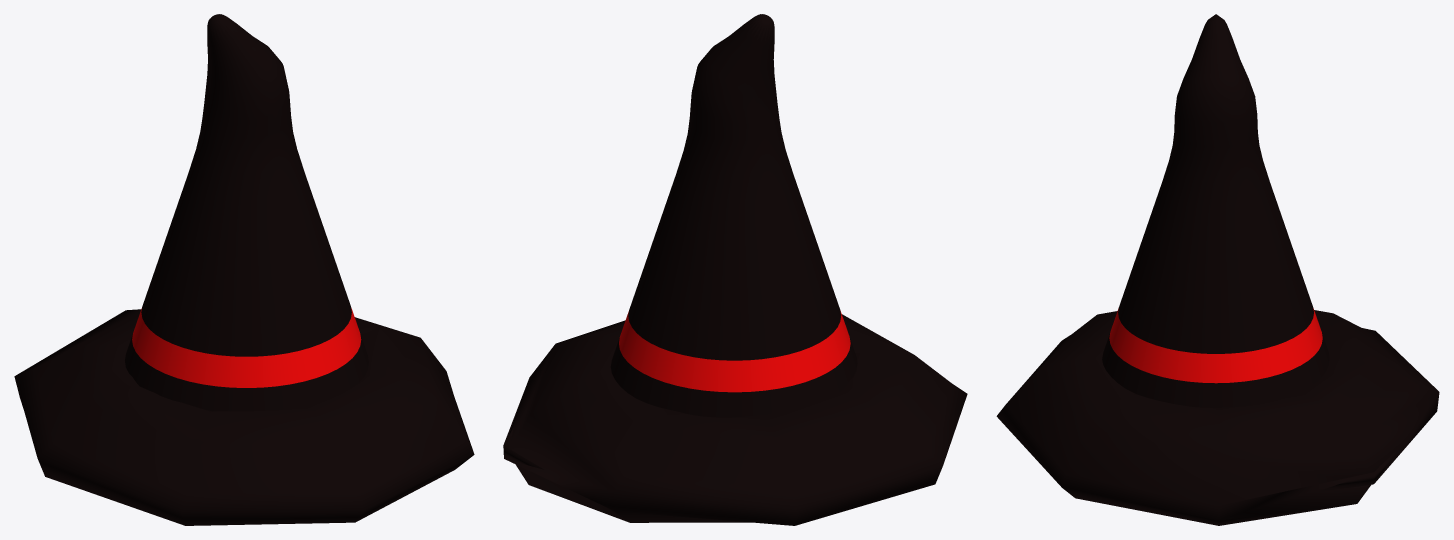
The model's file is cap1.FBX.
The picture shows the model from 3 angles, left to right: view 1: azimuth 30°, elevation 25°; view 2: azimuth 150°, elevation 25°; view 3: azimuth 270°, elevation 25°; orthographic projection. The views are drawn at different scales.
Parts seen in each view (by area): view 1: Torus01; view 2: Torus01; view 3: Torus01.
Part boxes in pixels (left/top/right/bottom): Torus01: left=14, top=14, right=474, bottom=525; Torus01: left=503, top=14, right=967, bottom=525; Torus01: left=996, top=14, right=1439, bottom=525.
Bounding box in the file's own units: 48.81 × 51.27 × 48.78.
